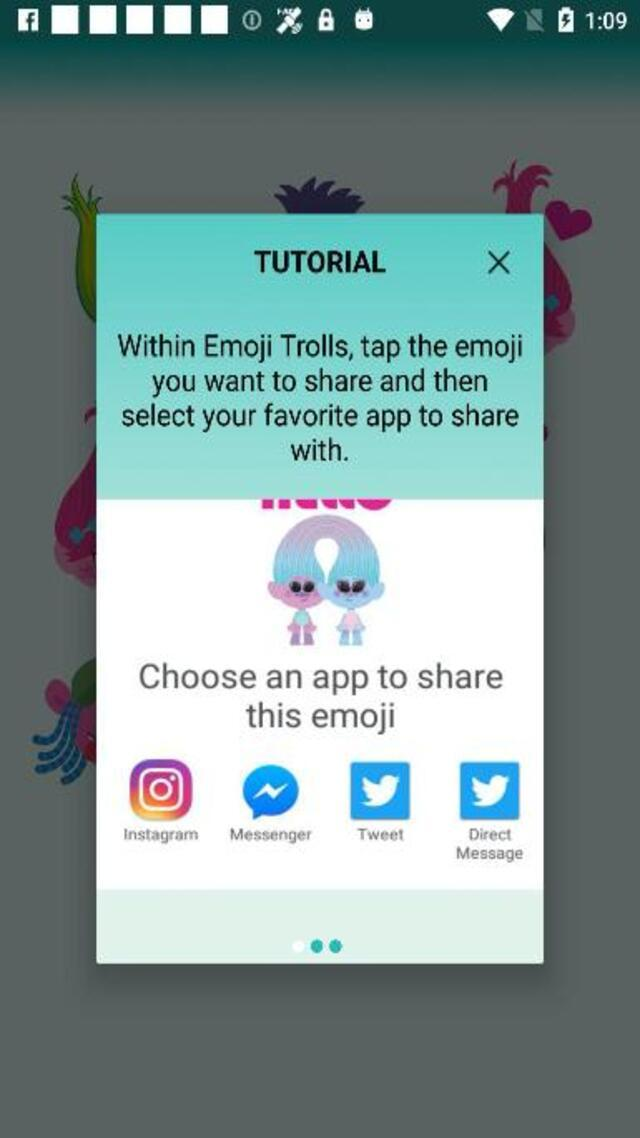Icon: (130, 758, 192, 820), (460, 760, 520, 819), (350, 760, 410, 819), (242, 764, 300, 819), (488, 251, 510, 274)
Image: (262, 498, 390, 646)
Text: (133, 660, 508, 698), (116, 331, 535, 365), (116, 400, 524, 434), (147, 367, 493, 398), (241, 697, 403, 738), (256, 250, 386, 273), (286, 437, 357, 468), (454, 844, 526, 866), (230, 828, 312, 844), (124, 828, 198, 844), (465, 828, 513, 844), (356, 828, 404, 840)
